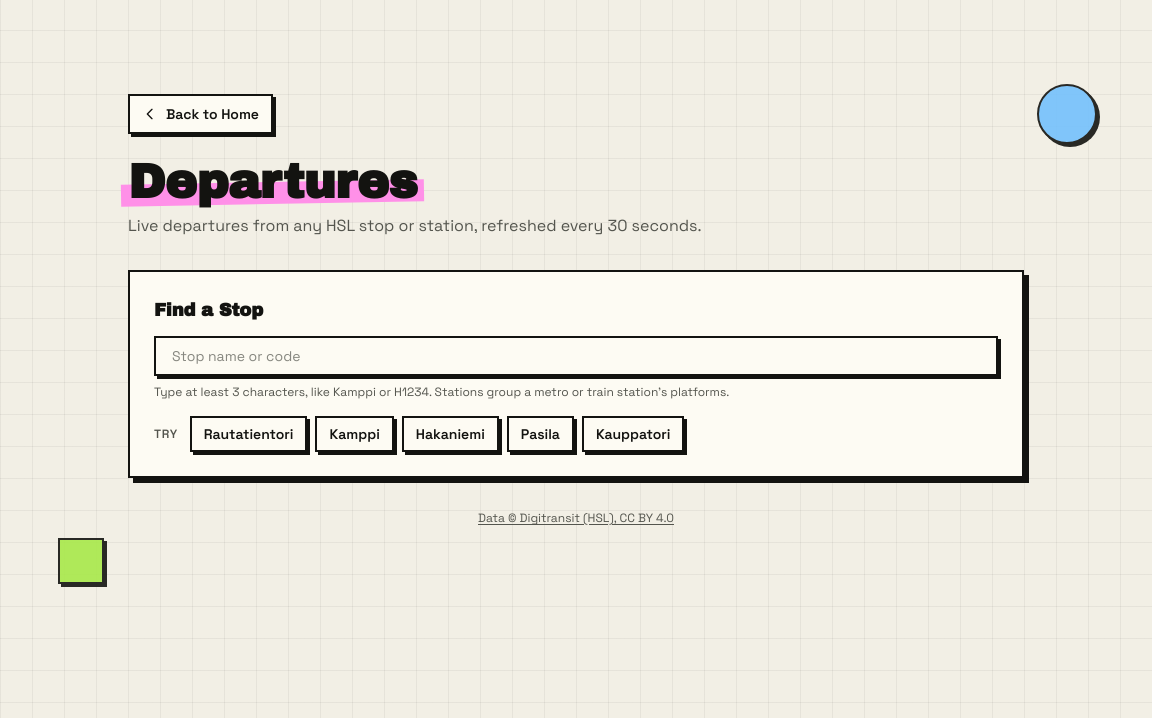
Scenario: DeparturesPageComponent › searches, opens a stop and remembers it
This screenshot has width=1152, height=718.
In the search field with test id "departures-search": (576, 356) x1=154 y1=336 x2=998 y2=376, type "kauppa"
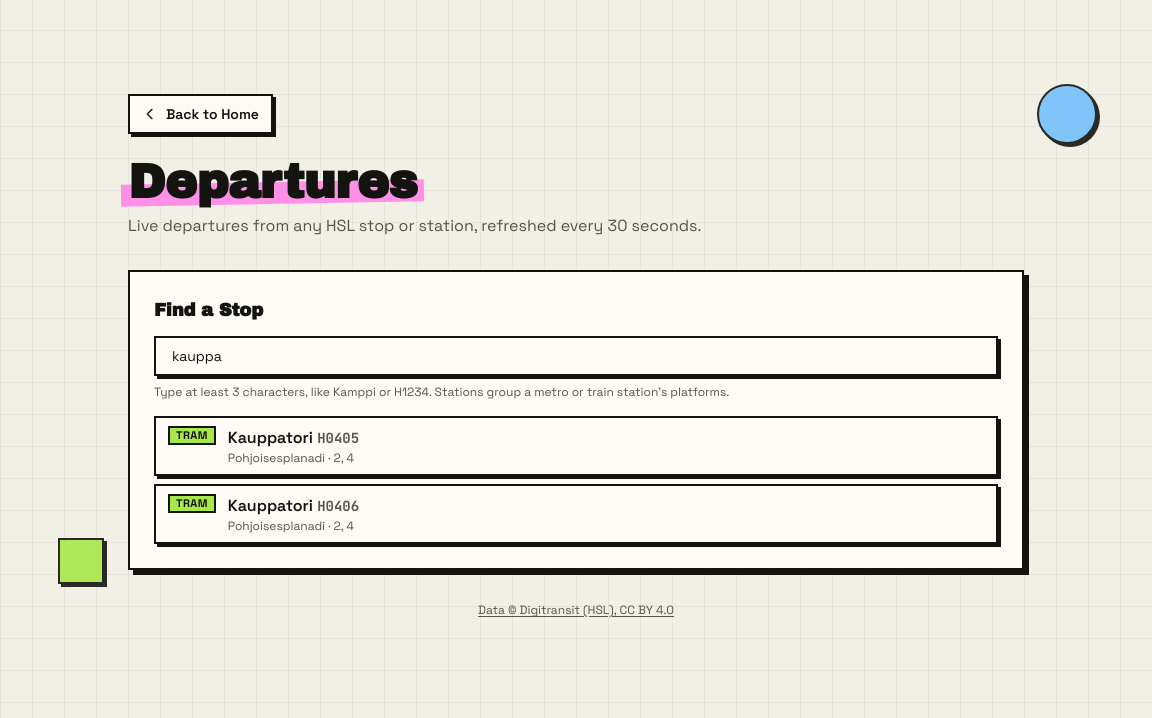
Click the button "Tram Kauppatori H0405 Pohjoisesplanadi · 2, 4": (192, 436) x1=154 y1=416 x2=998 y2=476
(page scrolled)
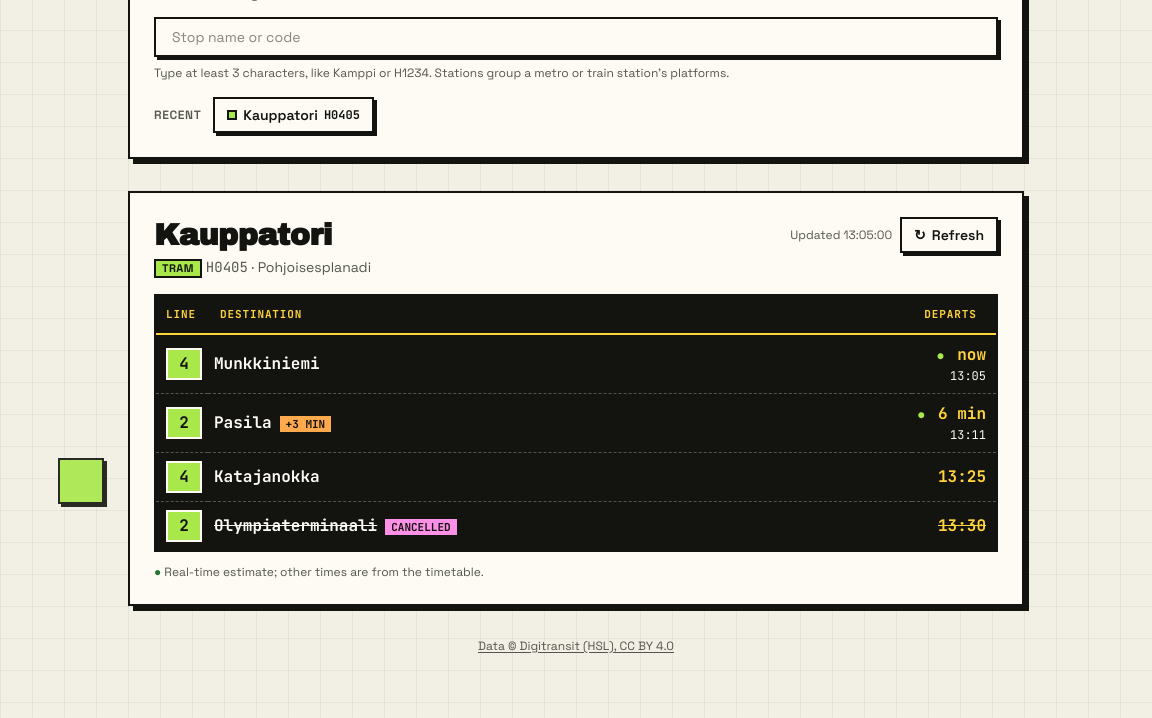
Now the element with test id "departure-board" is shown, box x1=128 y1=191 x2=1024 y2=606
